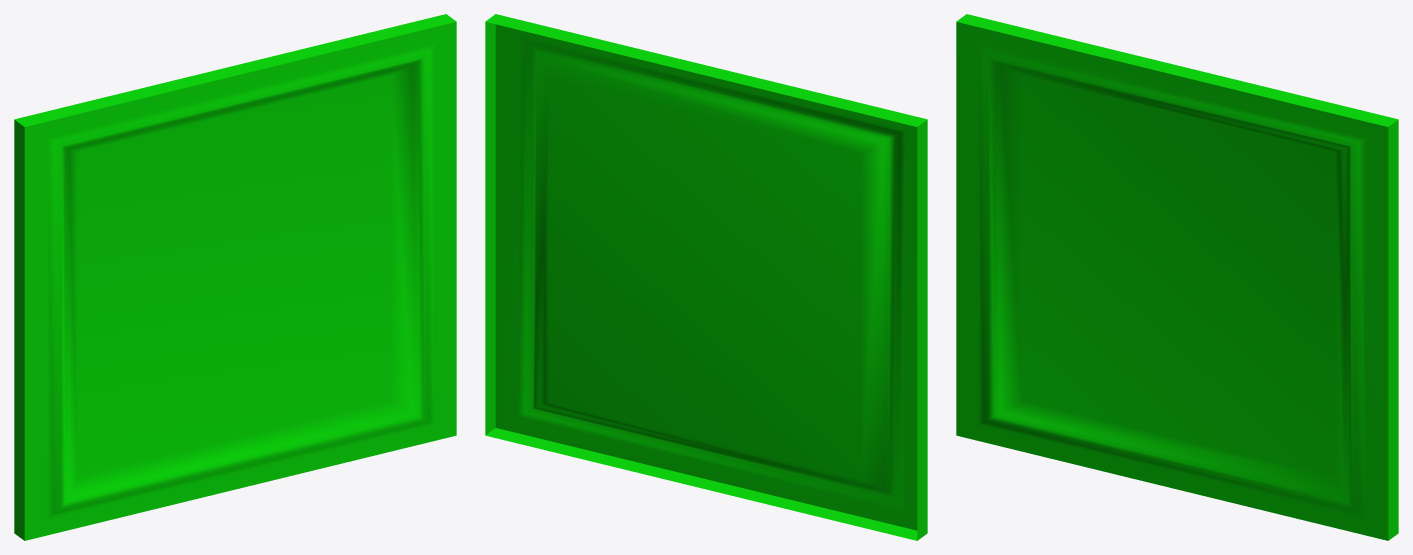
File: SetoPictureFrame3.fbx
3 renders of one model, left to right at view 1: azimuth 30°, elevation 25°; view 2: azimuth 150°, elevation 25°; view 3: azimuth 330°, elevation 25°, orthographic.
Parts seen in each view (by area): view 1: PictureFrame3; view 2: PictureFrame3; view 3: PictureFrame3.
Part boxes in pixels (x1,y1,x2,y2): PictureFrame3: (14,14,456,540); PictureFrame3: (485,14,927,540); PictureFrame3: (956,14,1398,540).
Size of the model in its own units: 0.6131 by 0.5611 by 0.0315.
